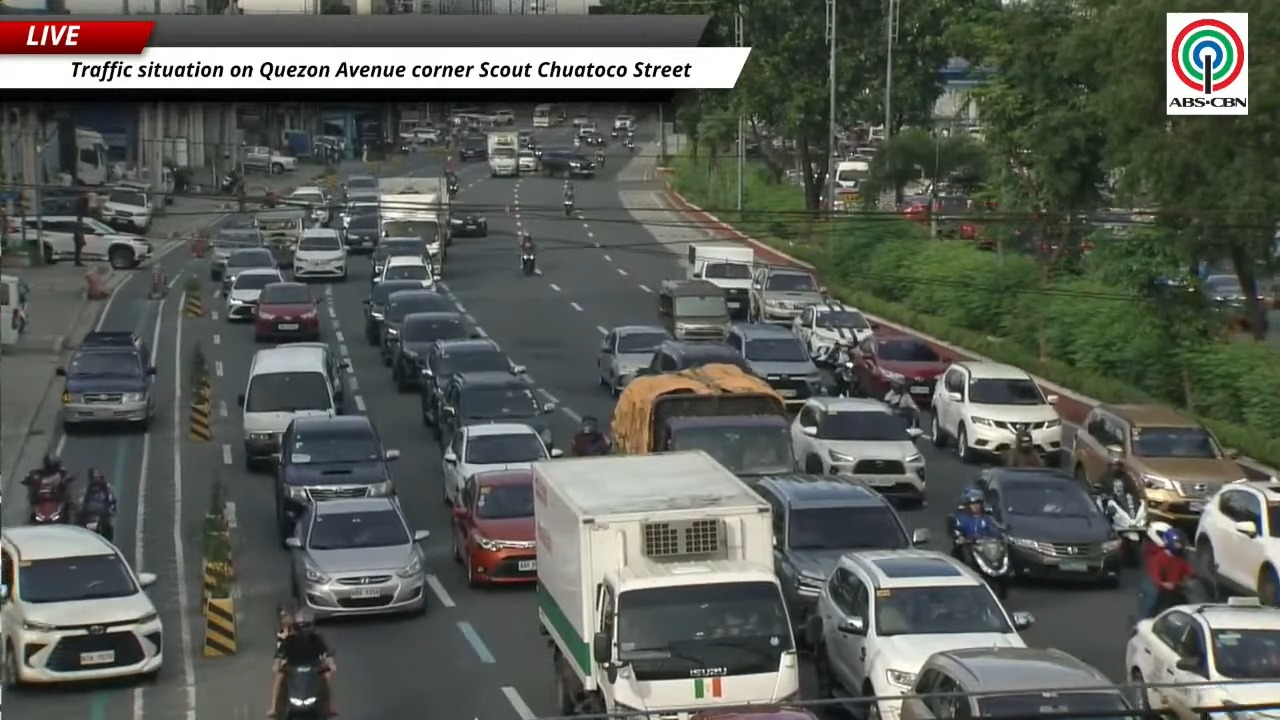bus: (533, 104, 566, 127)
car: (809, 550, 1033, 716), (753, 473, 929, 638), (0, 525, 162, 687), (1070, 404, 1247, 524), (286, 496, 428, 618), (976, 467, 1121, 586), (1126, 597, 1279, 709), (898, 647, 1136, 719), (275, 415, 398, 540), (791, 397, 925, 502), (930, 361, 1062, 464), (237, 343, 340, 470), (1195, 481, 1279, 603), (442, 422, 561, 506), (452, 470, 536, 585), (57, 332, 155, 429), (419, 339, 525, 426), (436, 371, 555, 446), (725, 323, 824, 405), (19, 215, 153, 269), (851, 335, 949, 406), (391, 311, 473, 391), (379, 289, 455, 366), (597, 325, 670, 396), (278, 341, 349, 412), (656, 279, 730, 341), (749, 265, 825, 325), (792, 301, 873, 357), (253, 282, 320, 342), (637, 339, 751, 374), (363, 280, 420, 345), (225, 268, 284, 322), (210, 227, 264, 281), (293, 228, 346, 280), (100, 184, 155, 233), (371, 237, 425, 284), (221, 247, 278, 291), (373, 254, 434, 288), (80, 330, 152, 357), (689, 705, 818, 719), (283, 186, 329, 224), (241, 145, 297, 174), (1201, 273, 1246, 309), (540, 149, 595, 178), (339, 190, 379, 227), (450, 208, 487, 237), (341, 175, 377, 198), (458, 135, 488, 161), (402, 127, 441, 144), (611, 114, 634, 136), (517, 149, 538, 172), (580, 131, 606, 147), (575, 119, 597, 137), (491, 109, 514, 125), (517, 129, 534, 147), (572, 114, 592, 129), (357, 206, 361, 208)
motorcycle: (1095, 480, 1149, 567), (954, 533, 1011, 599), (282, 664, 325, 719), (29, 476, 74, 524), (882, 391, 919, 428), (78, 513, 113, 541), (834, 360, 857, 397), (572, 437, 612, 456), (220, 172, 242, 195), (521, 250, 535, 275), (563, 199, 574, 216), (447, 182, 458, 198), (624, 138, 634, 152), (595, 152, 605, 166)
truck: (532, 451, 798, 717), (611, 364, 795, 481), (378, 177, 449, 278), (687, 244, 755, 318), (487, 131, 518, 176)
